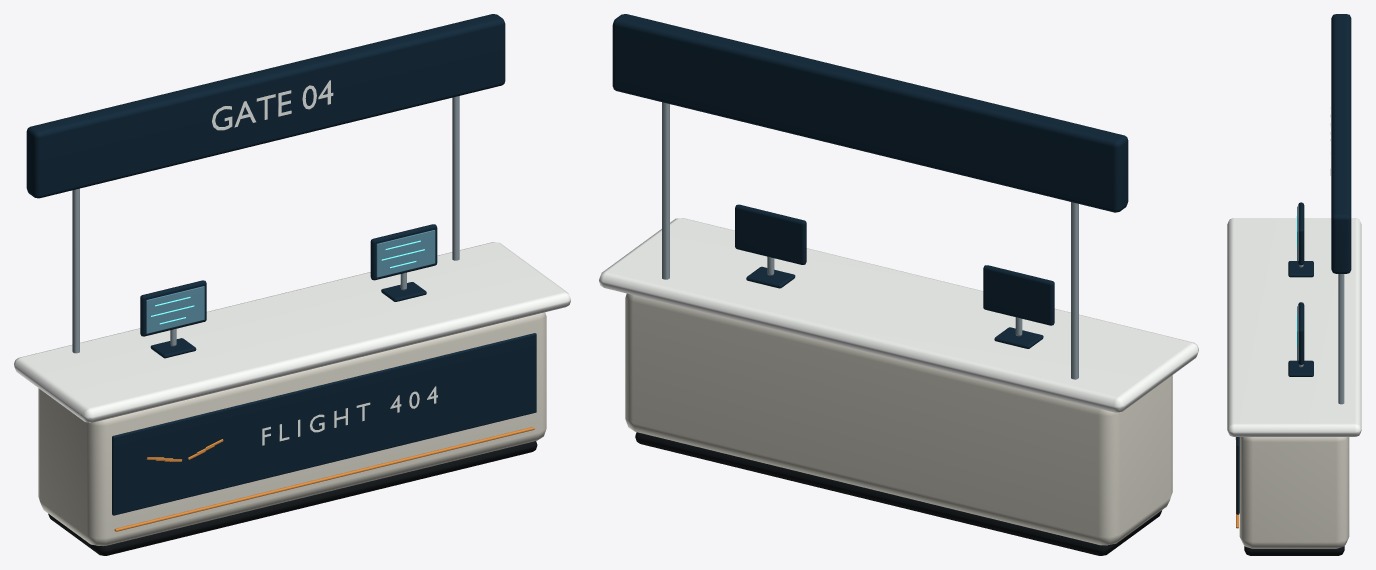
Rendered from gate-desk.glb.
The picture shows the model from 3 angles, left to right: view 1: azimuth 30°, elevation 25°; view 2: azimuth 150°, elevation 25°; view 3: azimuth 270°, elevation 25°; orthographic projection. The views are drawn at different scales.
Parts seen in each view (by area): view 1: gate-desk; view 2: gate-desk; view 3: gate-desk.
Boxes of the visible parts, left/top/right/bottom form: gate-desk: left=14, top=14, right=570, bottom=555; gate-desk: left=599, top=14, right=1198, bottom=555; gate-desk: left=1227, top=14, right=1361, bottom=555.
Size of the model in its own units: 3.72 by 2.88 by 1.
